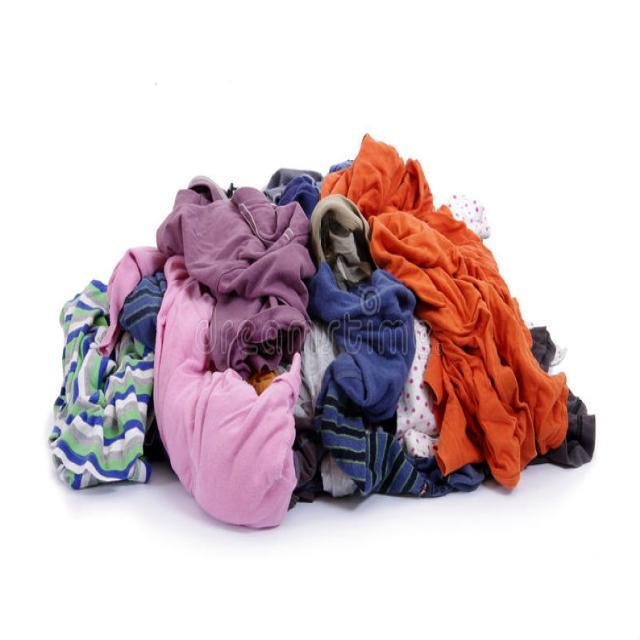clothes: (175, 198, 516, 516)
